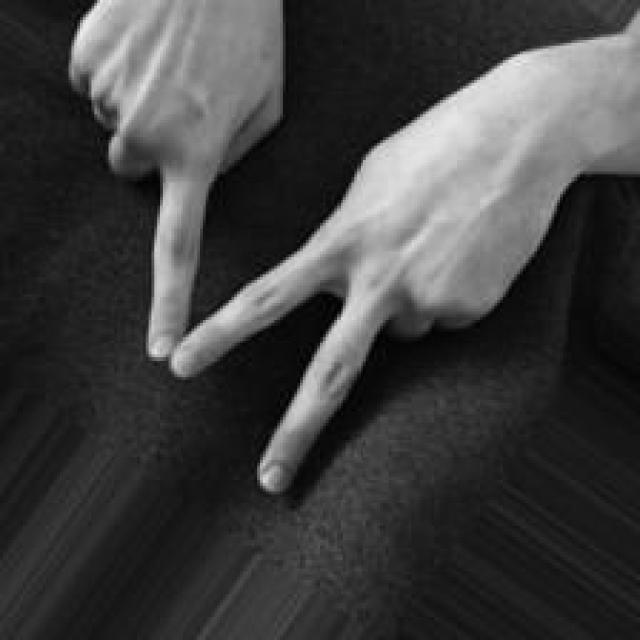N: (67, 2, 638, 499)
